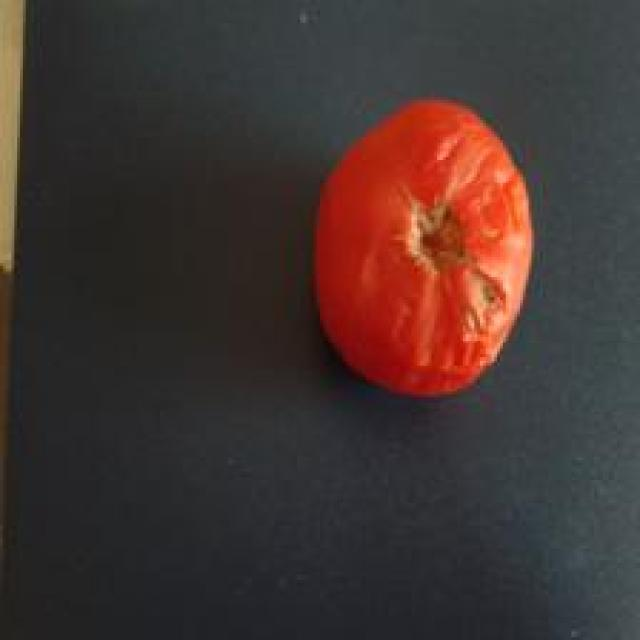overripe: (307, 95, 545, 400)
